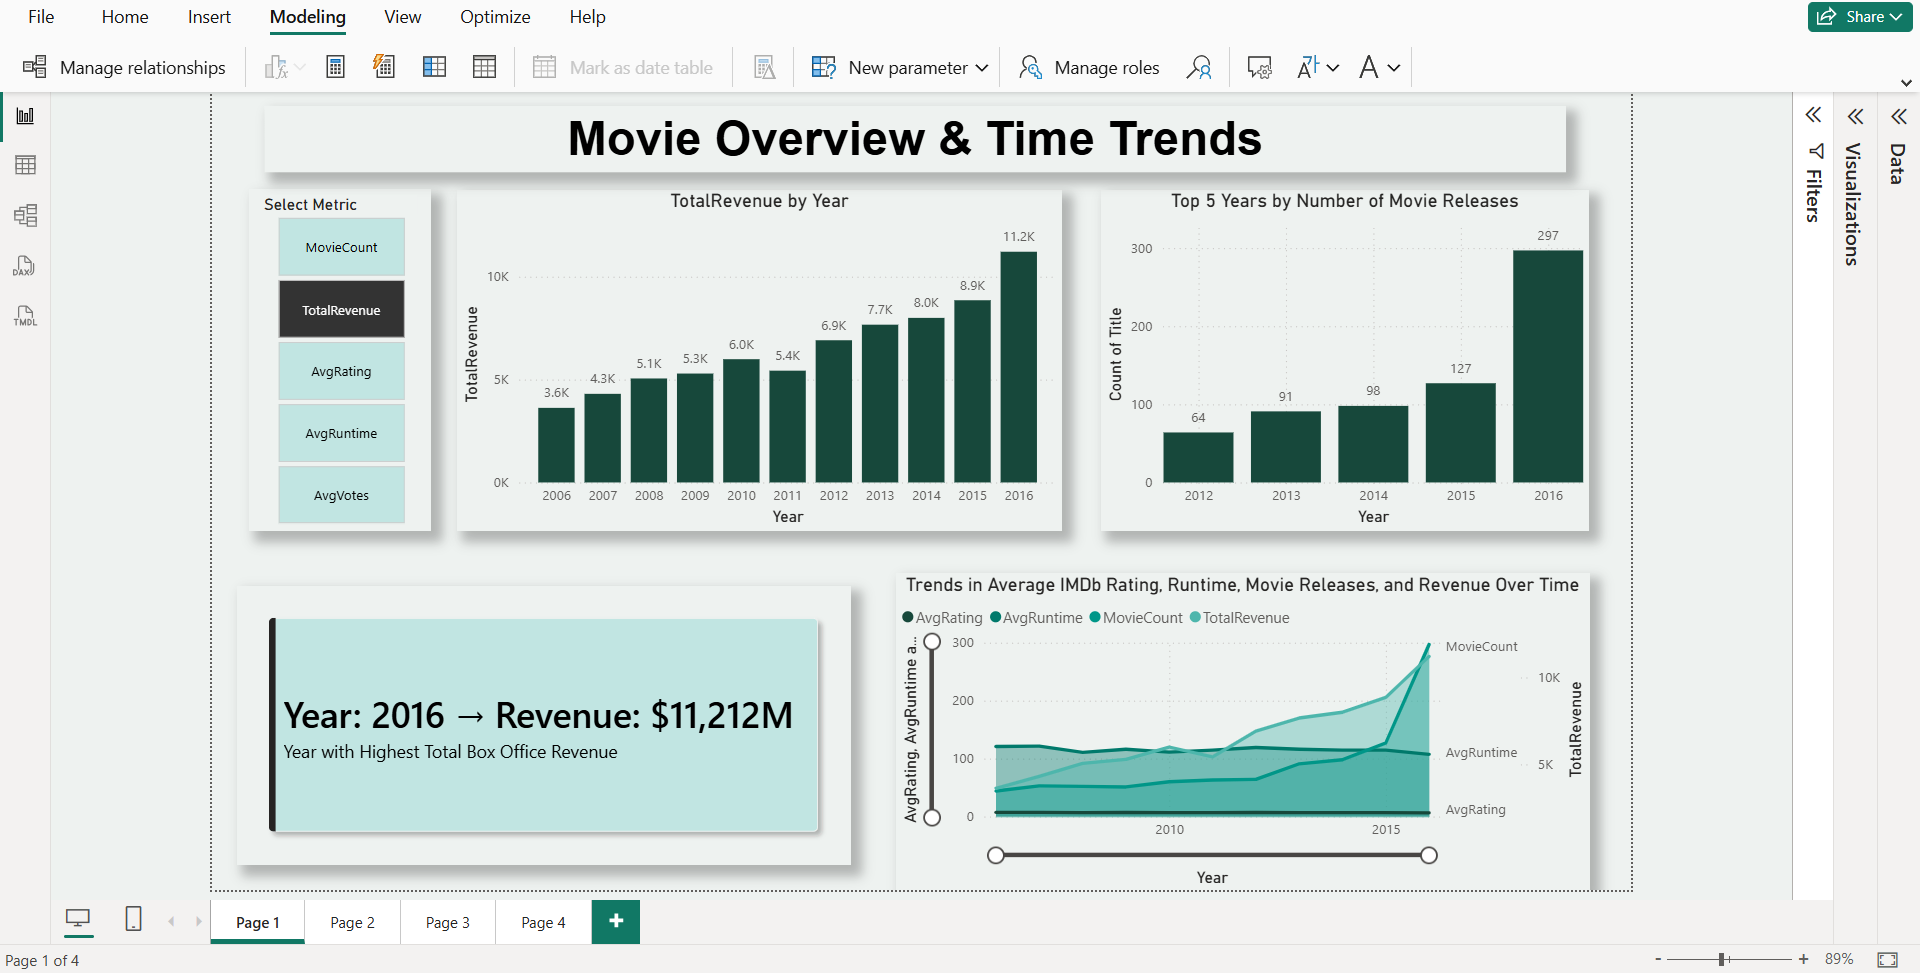

The dashboard page shown, as its layout file describes it:
{"tool":"powerbi","page":{"name":"Page 1","canvas":[1280,720],"ordinal":0},"visuals":[{"type":"textbox","box":[47.7,12.2,1173.9,59.9],"z":1000},{"type":"columnChart","fields":{"Y":["_Measure.AvgVotes"],"Category":["IMDB-Movie-Data.Year"]},"box":[221.3,88,545.4,308.2],"z":2000},{"type":"slicer","fields":{"Values":["Select Metric.Select Metric"]},"box":[34.2,88,163.9,308.2],"z":3000},{"type":"cardVisual","fields":{"Data":["_Measure.YearAndRevenue"]},"box":[22,445.1,553.9,251.9],"z":4000},{"type":"columnChart","title":"Top 5 Years by Number of Movie Releases","fields":{"Category":["IMDB-Movie-Data.Year"],"Y":["CountNonNull(IMDB-Movie-Data.Title)"]},"box":[801,88,440.2,308.2],"z":5000},{"type":"lineChart","title":"Trends in Average IMDb Rating, Runtime, Movie Releases, and Revenue Over Time","fields":{"Category":["IMDB-Movie-Data.Year"],"Y":["_Measure.AvgRating","_Measure.AvgRuntime","_Measure.MovieCount"],"Y2":["_Measure.TotalRevenue"]},"box":[615.1,434.1,626.1,286.1],"z":6000}]}

Visuals, with their boxes on the page's 1280x720 design canvas (x1, y1, x2, y2). These are canvas units, not pixel positions in the 1920x973 screenshot, which may show the page scaled, cropped or inside an application window:
textbox: (left=48, top=12, right=1222, bottom=72)
columnChart - _Measure.AvgVotes x IMDB-Movie-Data.Year: (left=221, top=88, right=767, bottom=396)
slicer - Select Metric.Select Metric: (left=34, top=88, right=198, bottom=396)
cardVisual - _Measure.YearAndRevenue: (left=22, top=445, right=576, bottom=697)
"Top 5 Years by Number of Movie Releases" columnChart: (left=801, top=88, right=1241, bottom=396)
"Trends in Average IMDb Rating, Runtime, Movie Releases, and Revenue Over Time" lineChart: (left=615, top=434, right=1241, bottom=720)
